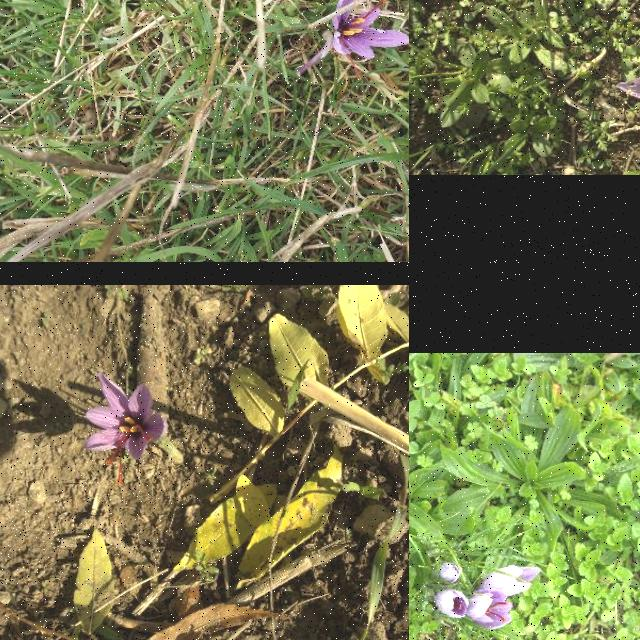flower: (86, 373, 166, 487), (334, 0, 409, 59), (482, 565, 542, 597), (468, 588, 512, 630), (436, 590, 470, 620), (440, 562, 464, 584)
